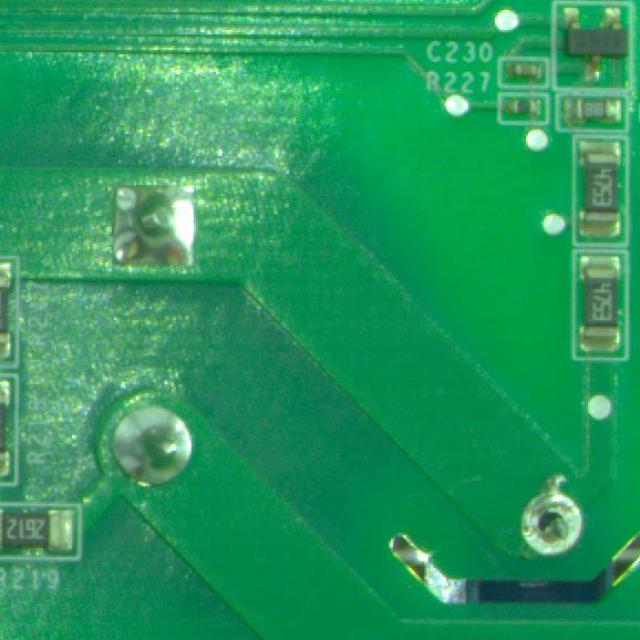Insufficient solder: (507, 482, 588, 560)
